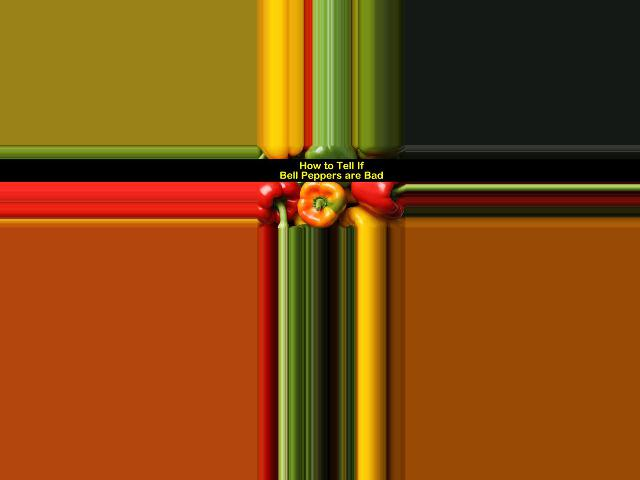bell_pepper: (259, 178, 302, 228)
